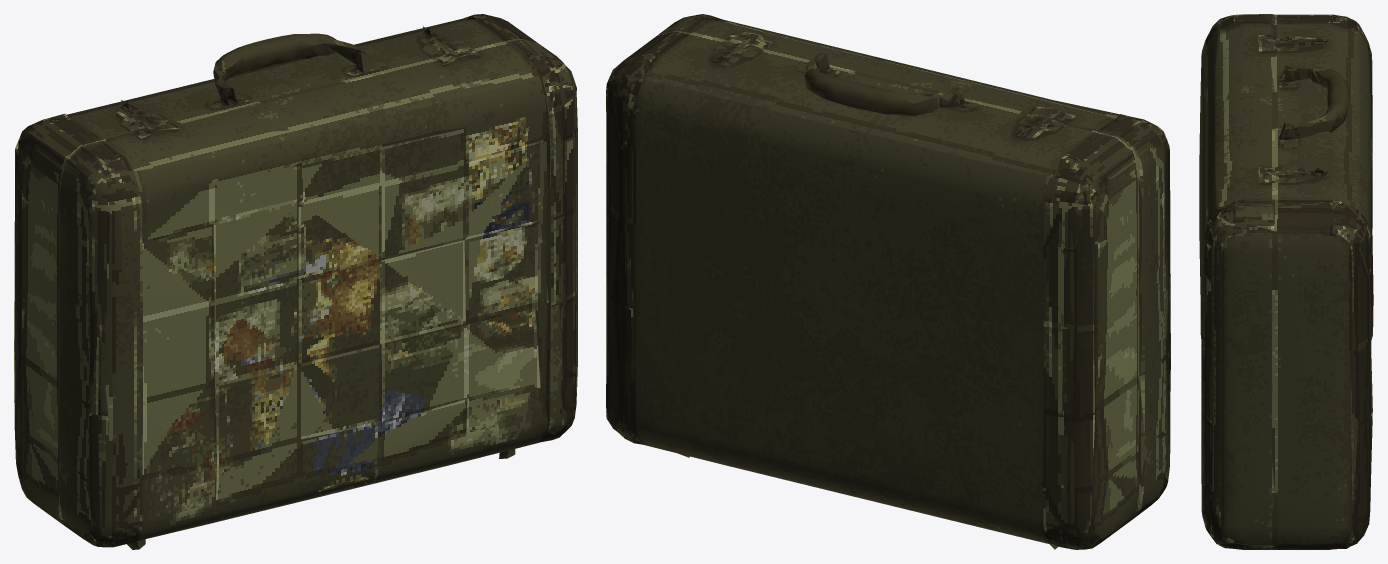
The model's file is vintage_suitcase_02.glb.
3 views of the same model, side by side, from view 1: azimuth 30°, elevation 25°; view 2: azimuth 150°, elevation 25°; view 3: azimuth 270°, elevation 25° (orthographic). The views are drawn at different scales.
Parts seen in each view (by area): view 1: body; view 2: body; view 3: body.
Part boxes in pixels (x1,y1,x2,y2): body: [14, 14, 577, 549]; body: [606, 14, 1170, 549]; body: [1199, 14, 1373, 549].
Size of the model in its own units: 0.6911 by 0.5679 by 0.2368.
1 material, 1 textured.
